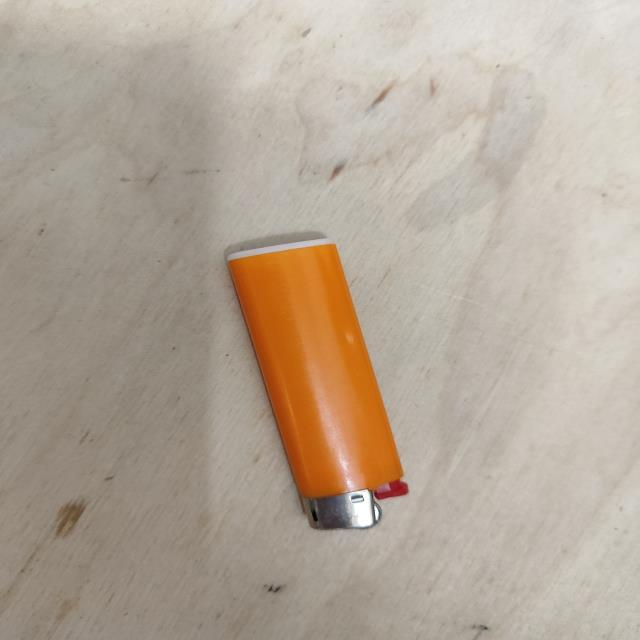lighter: (226, 233, 407, 528)
